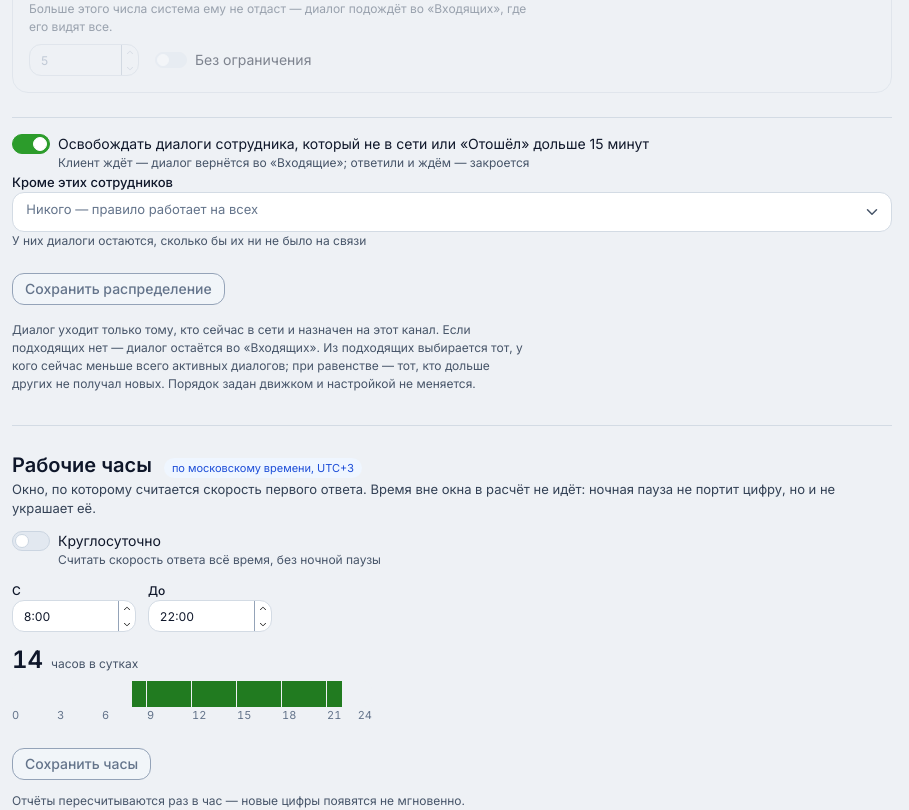
Распределение: окно формой, пояс, предмет правки › строка «не сохранено» у часов называет оба окна
The image size is (909, 810).
(page scrolled)
Replace the text in the field named "Конец рабочего дня, час по Москве" with "21" at (210, 616), box [148,600,272,632]
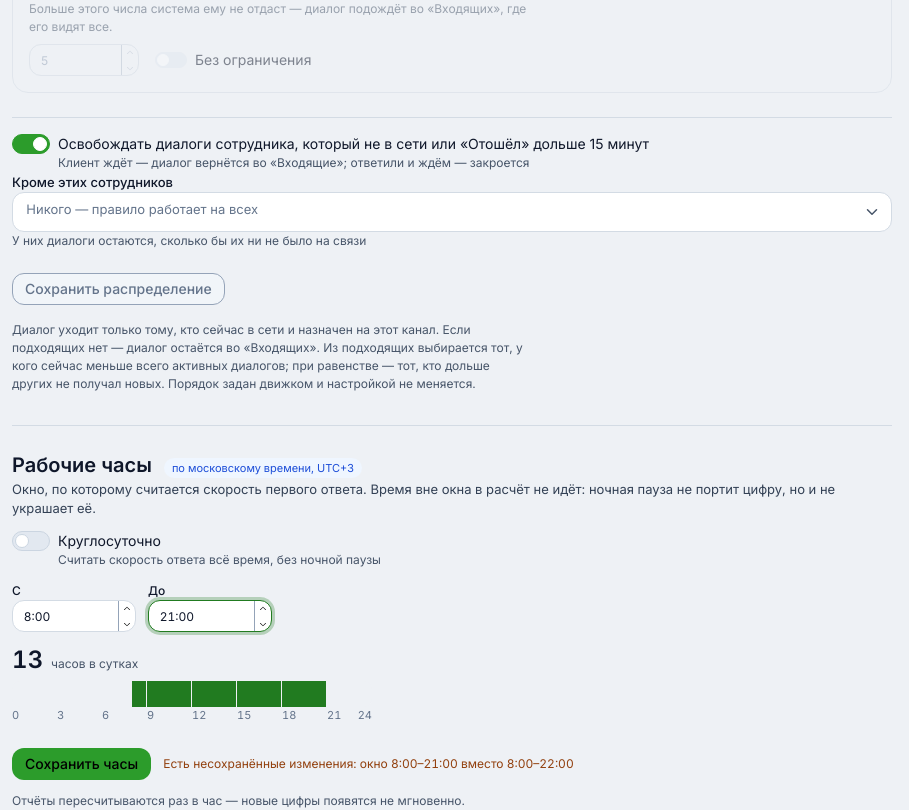
Check: the text ": окно 8:00–21:00 вместо 8:00–22:00" is shown, box [353,756,574,771]
